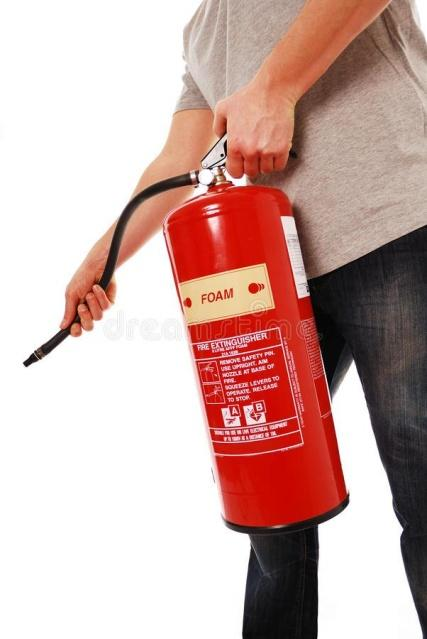APAR: (163, 132, 350, 534)
